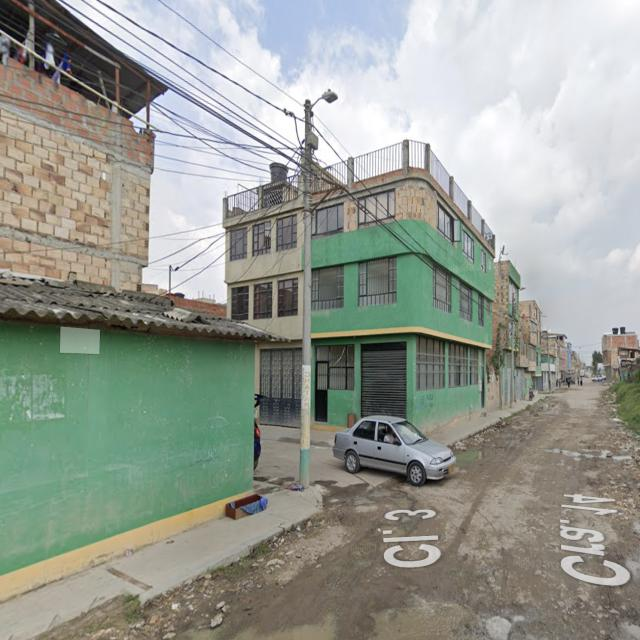Fachada: (0, 59, 284, 598), (311, 140, 497, 426), (223, 177, 304, 427)
Poste: (299, 89, 337, 487), (299, 92, 336, 487)
